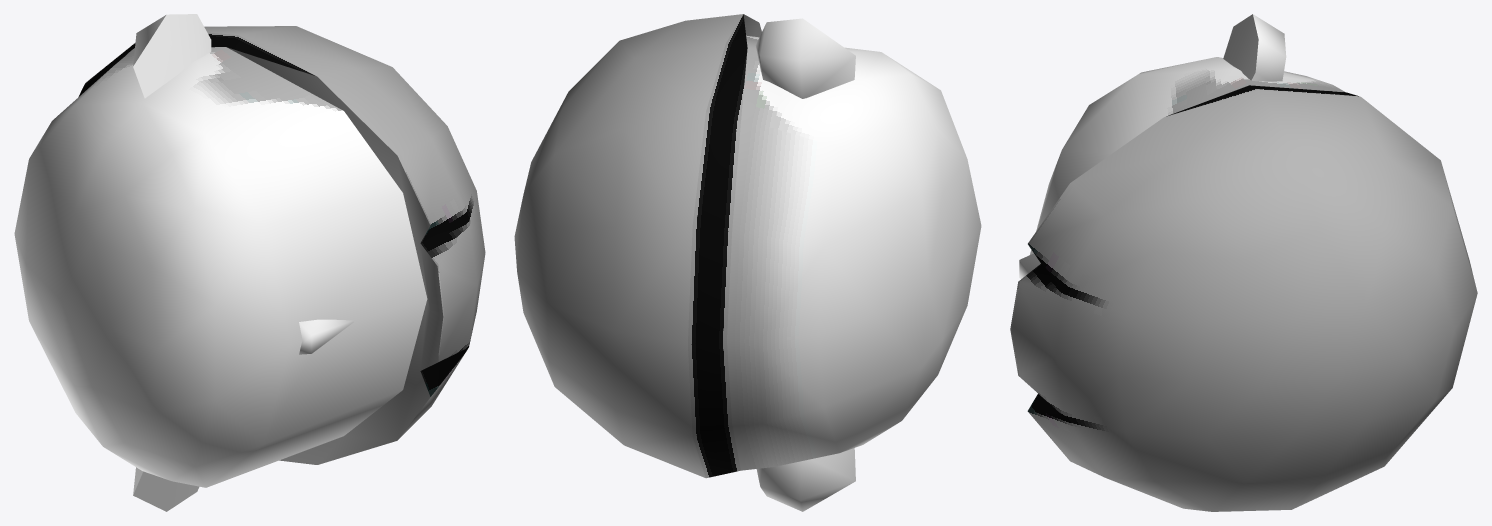
File: boy06a.dae
3 renders of one model, left to right at view 1: azimuth 30°, elevation 25°; view 2: azimuth 150°, elevation 25°; view 3: azimuth 270°, elevation 25°, orthographic. The views are drawn at different scales.
Visible parts, largest first — view 1: boy06a; view 2: boy06a; view 3: boy06a.
Part boxes in pixels (x1,y1,x2,y2): boy06a: (14, 14, 485, 511); boy06a: (514, 14, 981, 511); boy06a: (1010, 14, 1477, 511).
Size of the model in its own units: 21.58 by 26.71 by 23.3.
3 materials, 1 textured.
